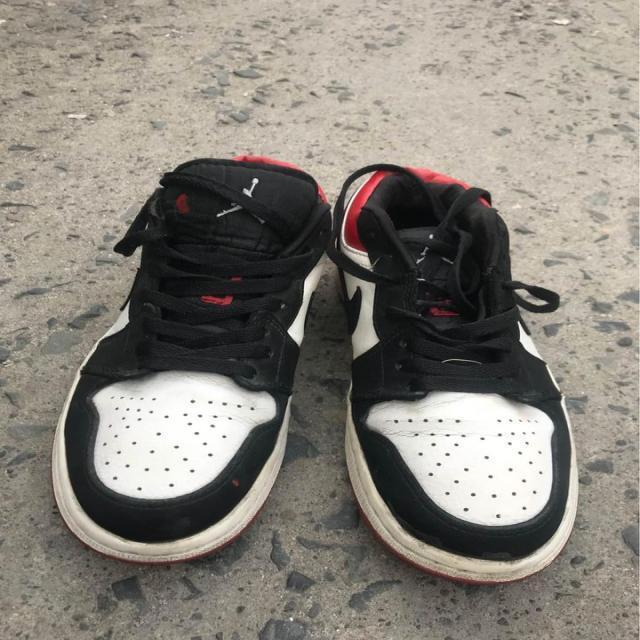nike original jordan 1: (50, 157, 326, 563), (332, 166, 586, 582)
